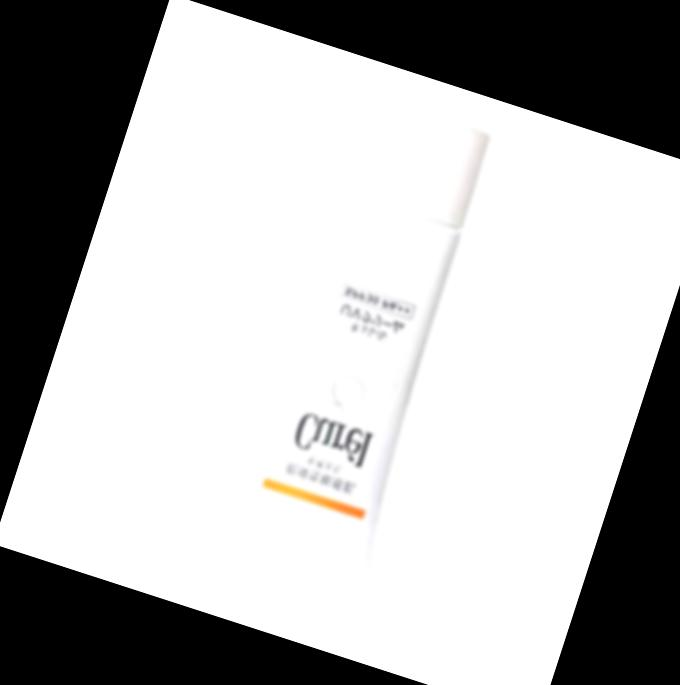cosmetic: (213, 95, 509, 600)
